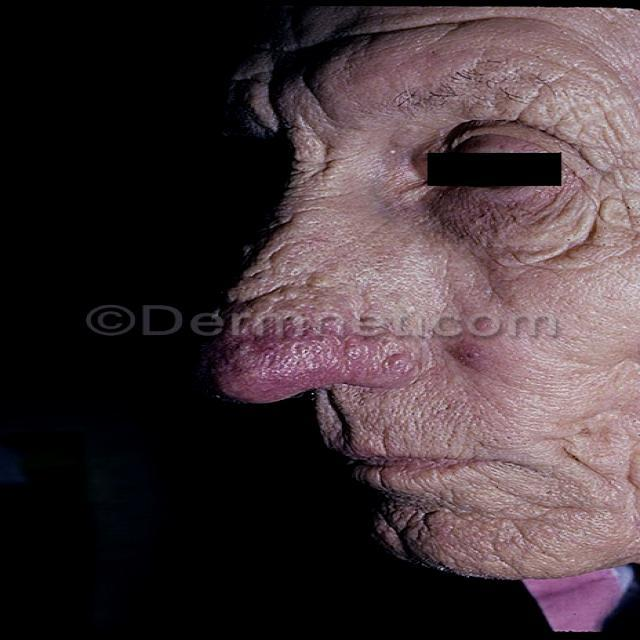Rosacea: (208, 319, 435, 398)
